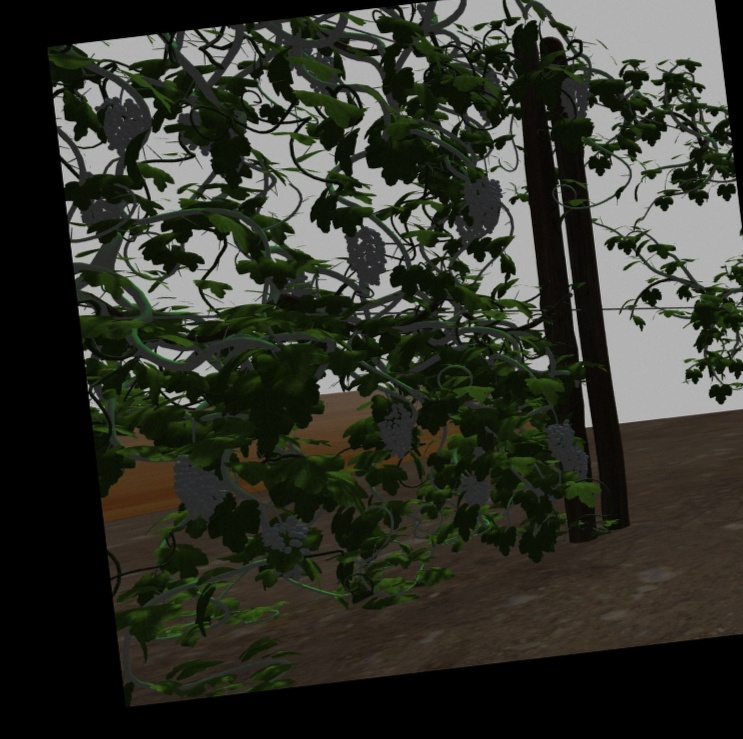grape: (172, 455, 223, 522), (97, 96, 145, 154), (345, 228, 387, 286), (376, 400, 415, 460), (464, 176, 505, 233), (260, 516, 308, 556), (559, 76, 591, 123), (546, 422, 575, 463), (459, 471, 491, 507), (561, 451, 589, 483)
